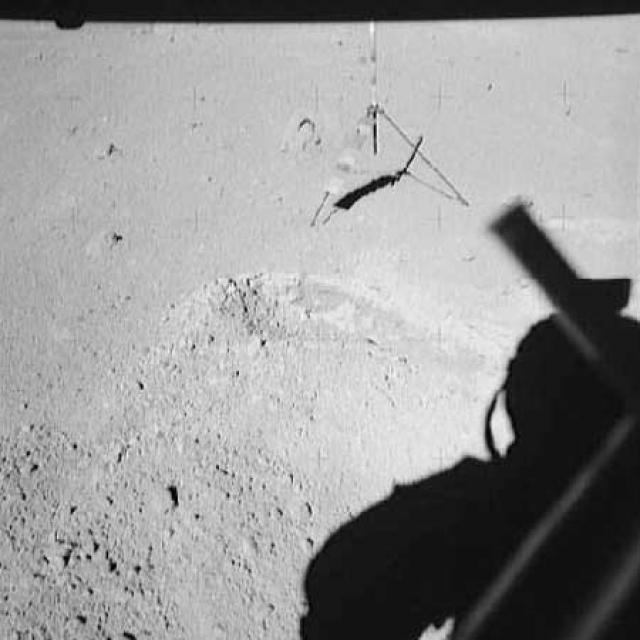artifact: (286, 22, 473, 232)
rock: (276, 105, 328, 165)
